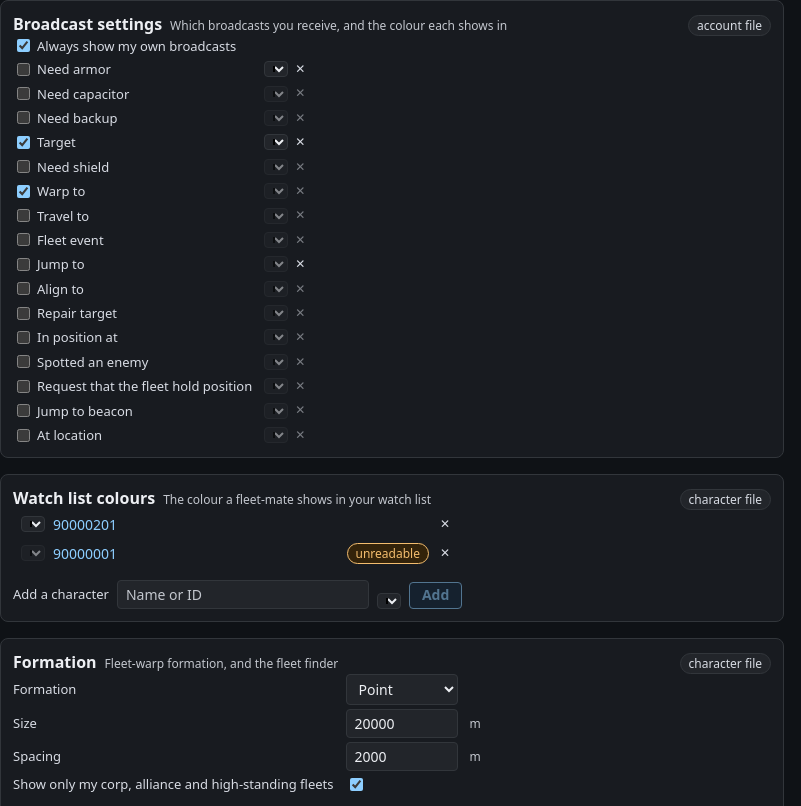
Test case: the watch list panel › add: a numeric id already listed says so without an ESI lookup
The image size is (801, 806).
Type "90000001" into the field labelled "Add a character" at (243, 594), box [117, 580, 369, 609]
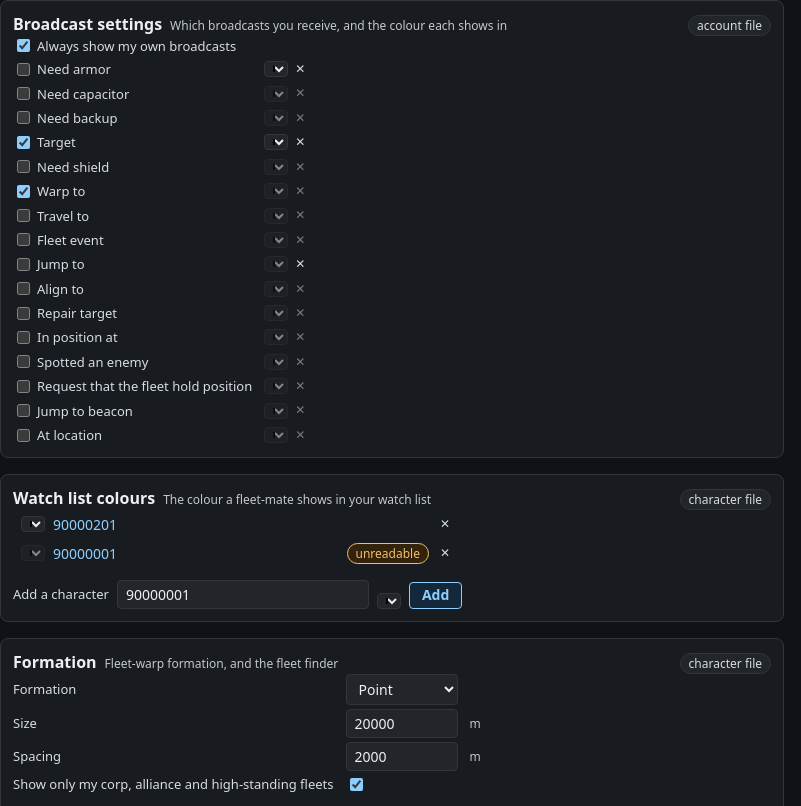
Click the button "Add" at (436, 595), box [409, 582, 462, 609]
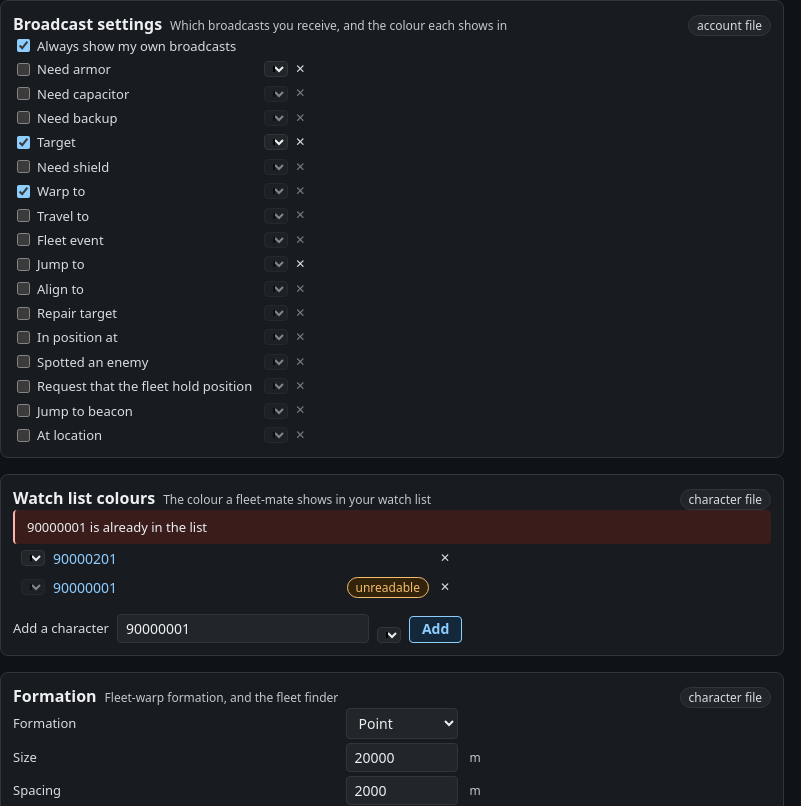
Check: the message reads "90000001 is already in the list", box [27, 518, 207, 536]
